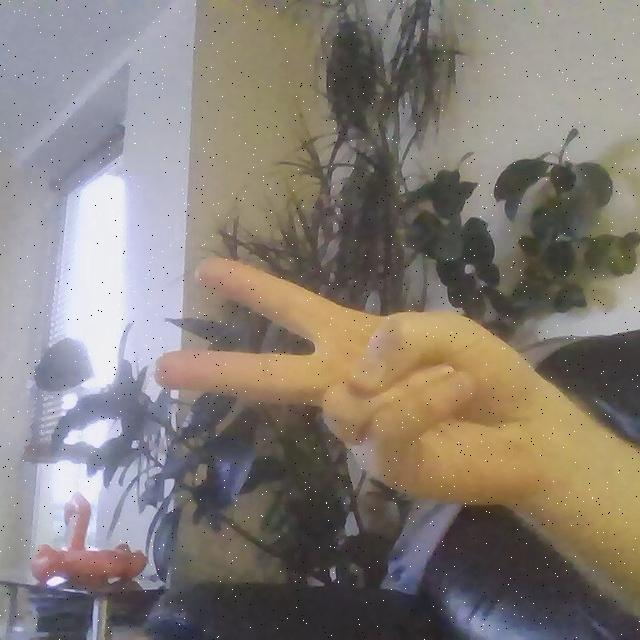scissors: (147, 260, 548, 508)
